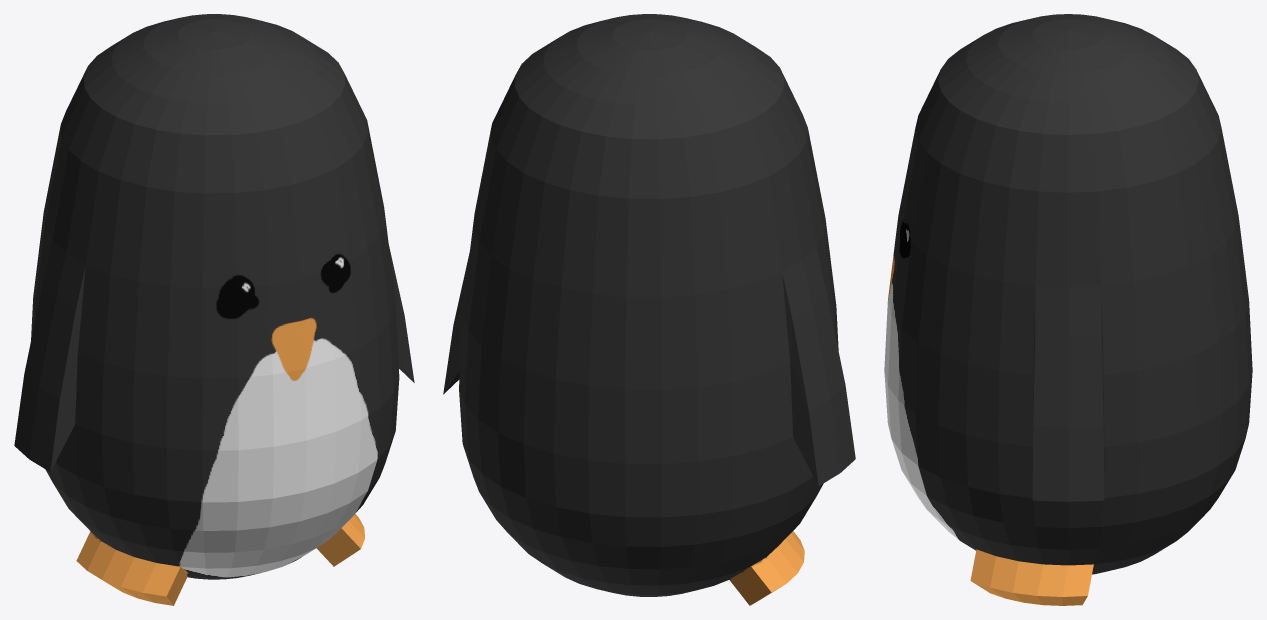
The model's file is penguin.dae.
3 renders of one model, left to right at view 1: azimuth 30°, elevation 25°; view 2: azimuth 150°, elevation 25°; view 3: azimuth 270°, elevation 25°, orthographic. The views are drawn at different scales.
Visible parts, largest first — view 1: Sphere; view 2: Sphere; view 3: Sphere.
Part boxes in pixels (x1=…): Sphere: x1=14, y1=14, x2=414, y2=605; Sphere: x1=443, y1=14, x2=855, y2=605; Sphere: x1=884, y1=14, x2=1252, y2=605.
Size of the model in its own units: 2.31 by 2 by 3.17.
1 material, 1 textured.
